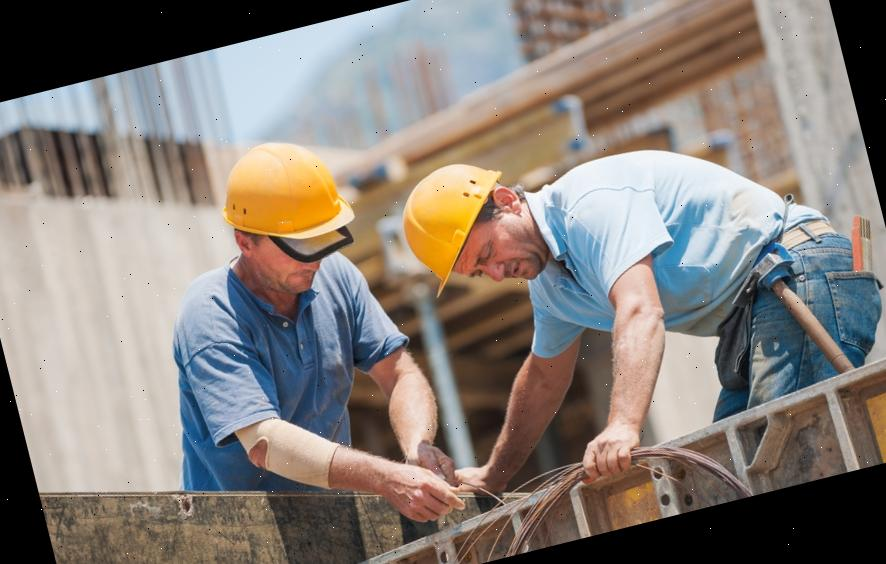helmet: (385, 150, 530, 310), (205, 123, 364, 261)
no_wear: (531, 117, 823, 352), (162, 266, 411, 502)
